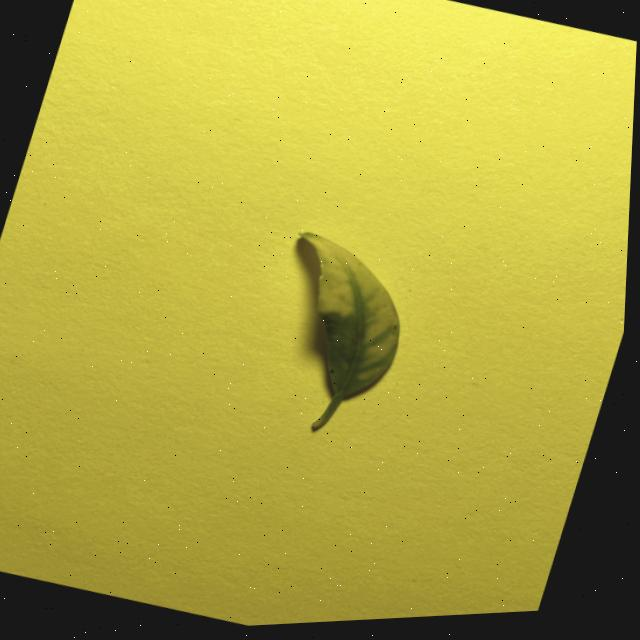greening: (300, 233, 399, 428)
